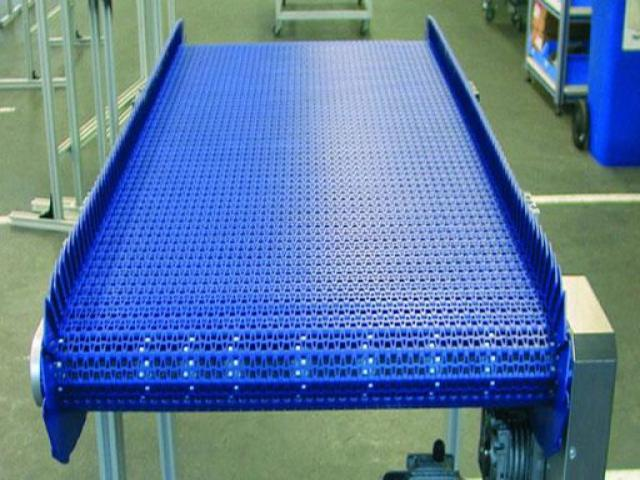conveyor: (35, 15, 611, 462)
